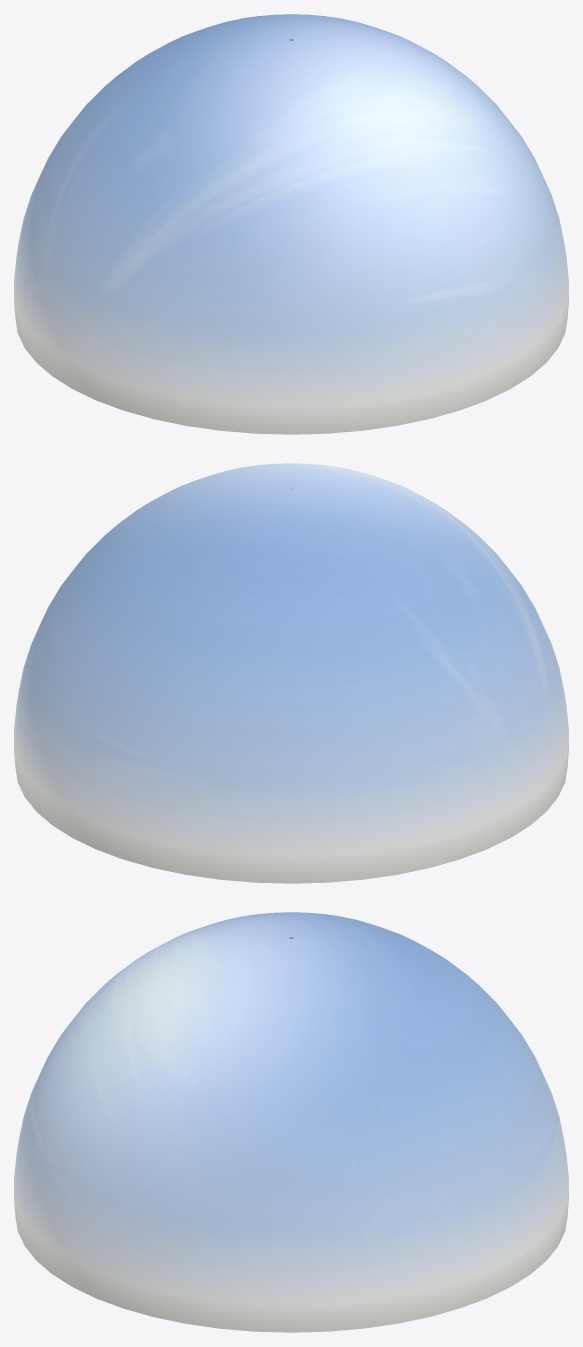
Rendered from mongolia_deck.gltf.
3 views of the same model, one above another, from view 1: azimuth 30°, elevation 25°; view 2: azimuth 150°, elevation 25°; view 3: azimuth 270°, elevation 25° (orthographic).
Visible parts, largest first — view 1: SkyDome; view 2: SkyDome; view 3: SkyDome.
Part boxes in pixels (<box>): SkyDome: <box>14,14,568,434</box>; SkyDome: <box>14,463,568,883</box>; SkyDome: <box>14,912,568,1332</box>.
Size of the model in its own units: 959 by 530 by 959.
Materials: 33 (32 with a texture image).
